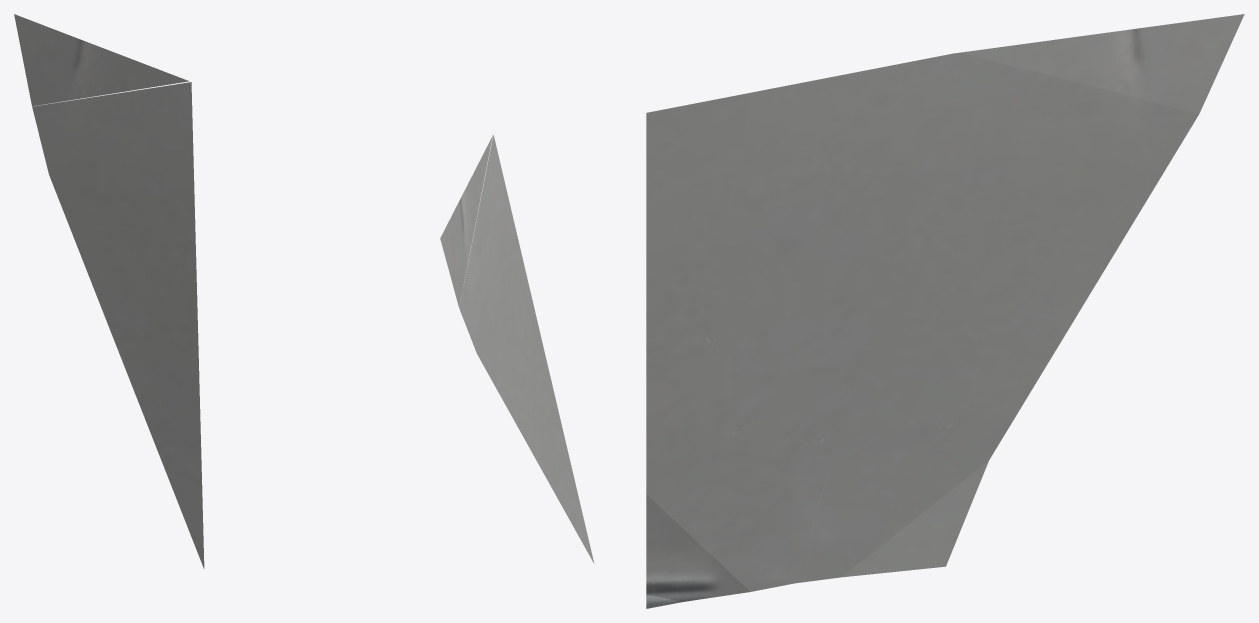
3 renders of one model, left to right at view 1: azimuth 30°, elevation 25°; view 2: azimuth 150°, elevation 25°; view 3: azimuth 270°, elevation 25°, orthographic. The views are drawn at different scales.
Size of the model in its own units: 0.3213 by 0.8373 by 0.8219.
2 materials, 2 textured.
